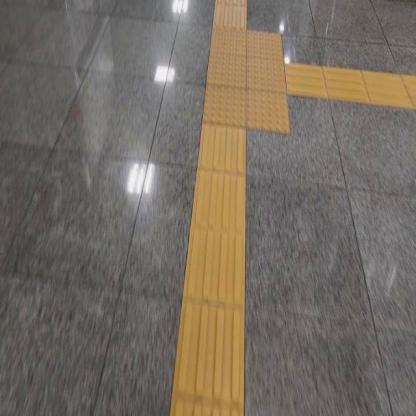podotacti: (170, 128, 250, 415), (181, 10, 315, 166), (288, 60, 416, 107), (213, 0, 249, 28)
